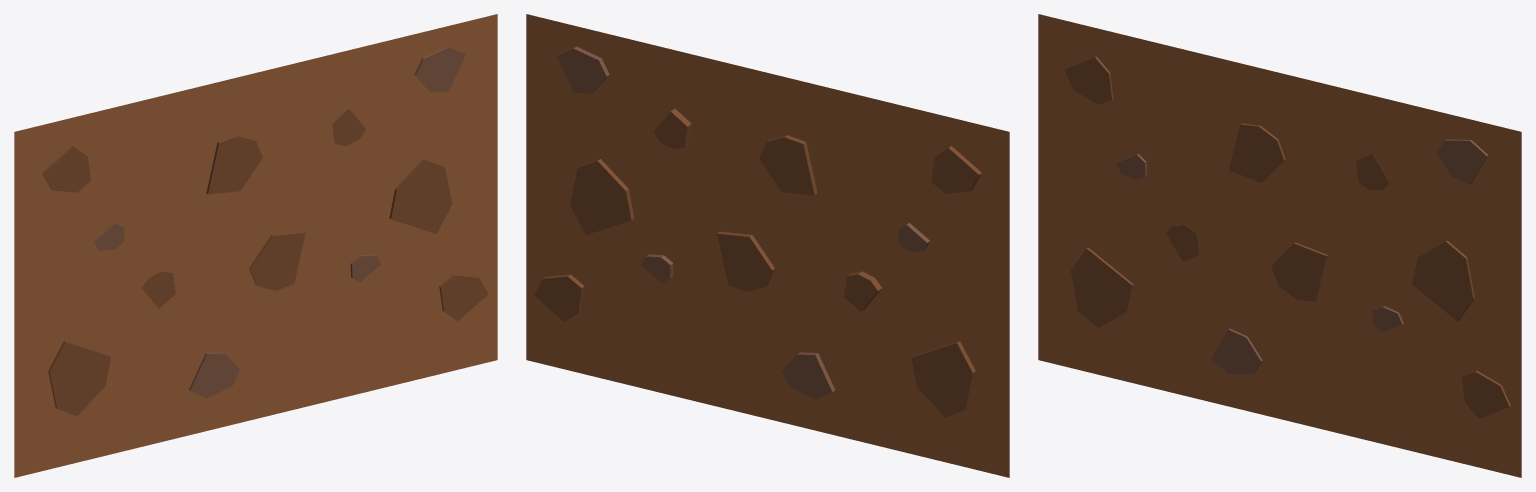
File: ground_mid_02.fbx
The picture shows the model from 3 angles, left to right: view 1: azimuth 30°, elevation 25°; view 2: azimuth 150°, elevation 25°; view 3: azimuth 330°, elevation 25°; orthographic projection.
Visible parts, largest first — view 1: ground_mid_02; view 2: ground_mid_02; view 3: ground_mid_02.
Part boxes in pixels (<box>): ground_mid_02: <box>14,14,497,477</box>; ground_mid_02: <box>526,14,1009,477</box>; ground_mid_02: <box>1038,14,1521,477</box>.
Bounding box in the file's own units: 595 × 408 × 12.4.
